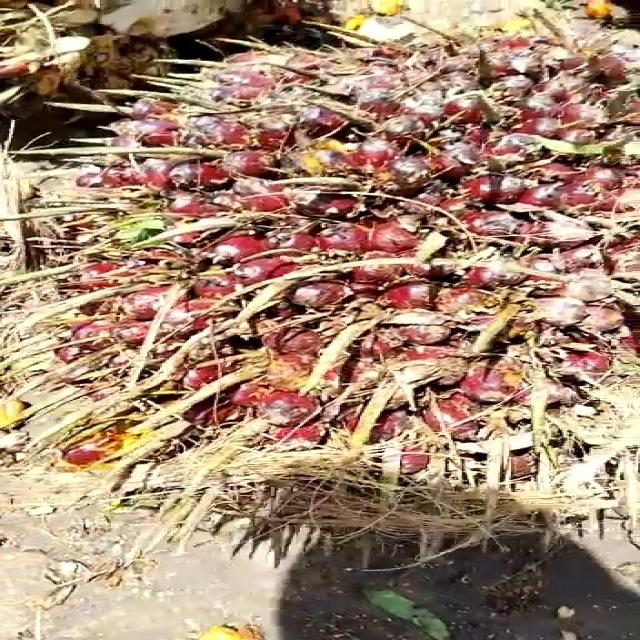palm oil: (41, 24, 640, 546)
